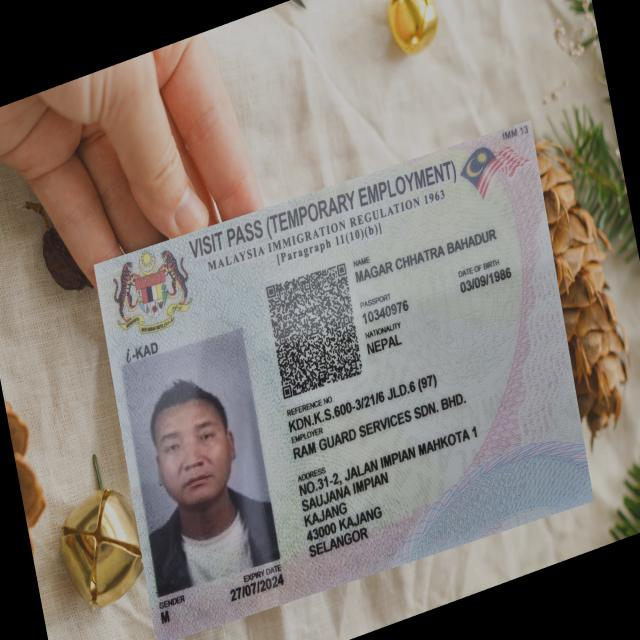ikad-temp: (92, 120, 595, 638)
